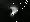person: (10, 5, 19, 19)
